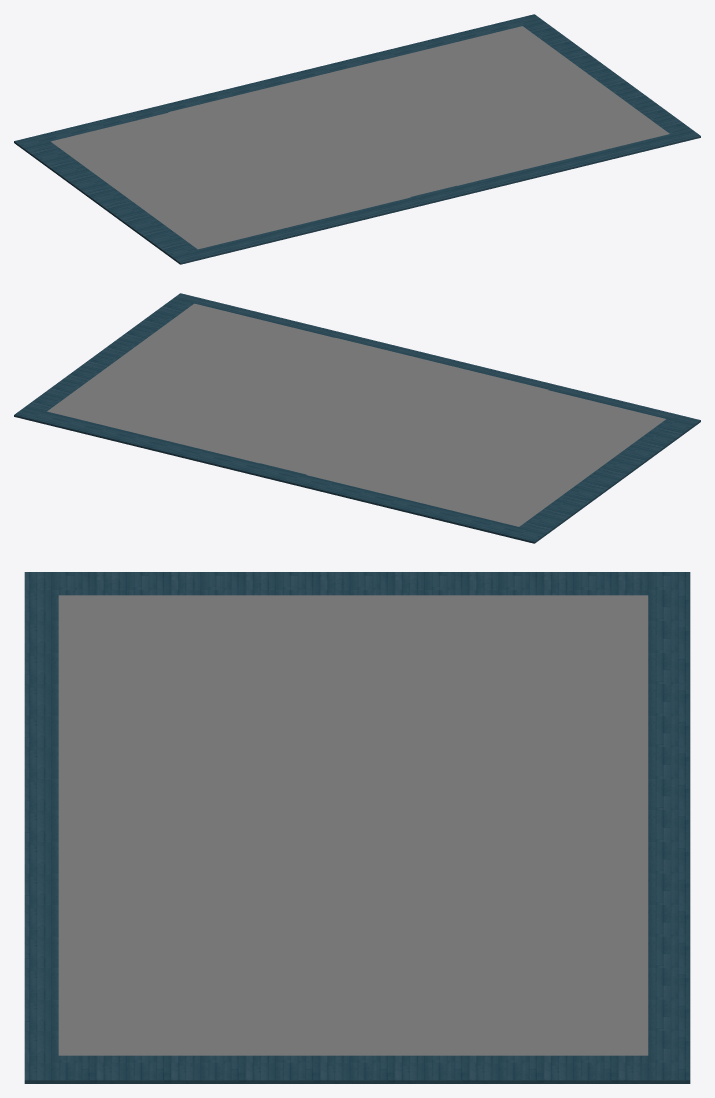
The model's file is sol.fbx.
The picture shows the model from 3 angles, top to bottom: view 1: azimuth 30°, elevation 25°; view 2: azimuth 150°, elevation 25°; view 3: azimuth 270°, elevation 25°; orthographic projection. The views are drawn at different scales.
Visible parts, largest first — view 1: carpete central003, carpete central001, carpete central002, piso madeira, piso madeira001; view 2: carpete central003, carpete central001, carpete central002, piso madeira, piso madeira001; view 3: carpete central003, carpete central001, carpete central002, piso madeira001, piso madeira.
Part boxes in pixels (x1=…): carpete central003: x1=168, y1=60, x2=528, y2=219; carpete central001: x1=381, y1=26, x2=669, y2=185; carpete central002: x1=51, y1=112, x2=410, y2=249; piso madeira: x1=14, y1=78, x2=442, y2=264; piso madeira001: x1=273, y1=14, x2=700, y2=201; carpete central003: x1=188, y1=338, x2=548, y2=497; carpete central001: x1=47, y1=303, x2=334, y2=463; carpete central002: x1=307, y1=390, x2=665, y2=526; piso madeira: x1=272, y1=356, x2=700, y2=543; piso madeira001: x1=14, y1=293, x2=441, y2=479; carpete central003: x1=58, y1=709, x2=648, y2=916; carpete central001: x1=58, y1=917, x2=648, y2=1055; carpete central002: x1=58, y1=595, x2=648, y2=709; piso madeira001: x1=24, y1=828, x2=690, y2=1083; piso madeira: x1=24, y1=572, x2=690, y2=827.
Bounding box in the file's own units: 67.76 × 0.4243 × 37.51.
